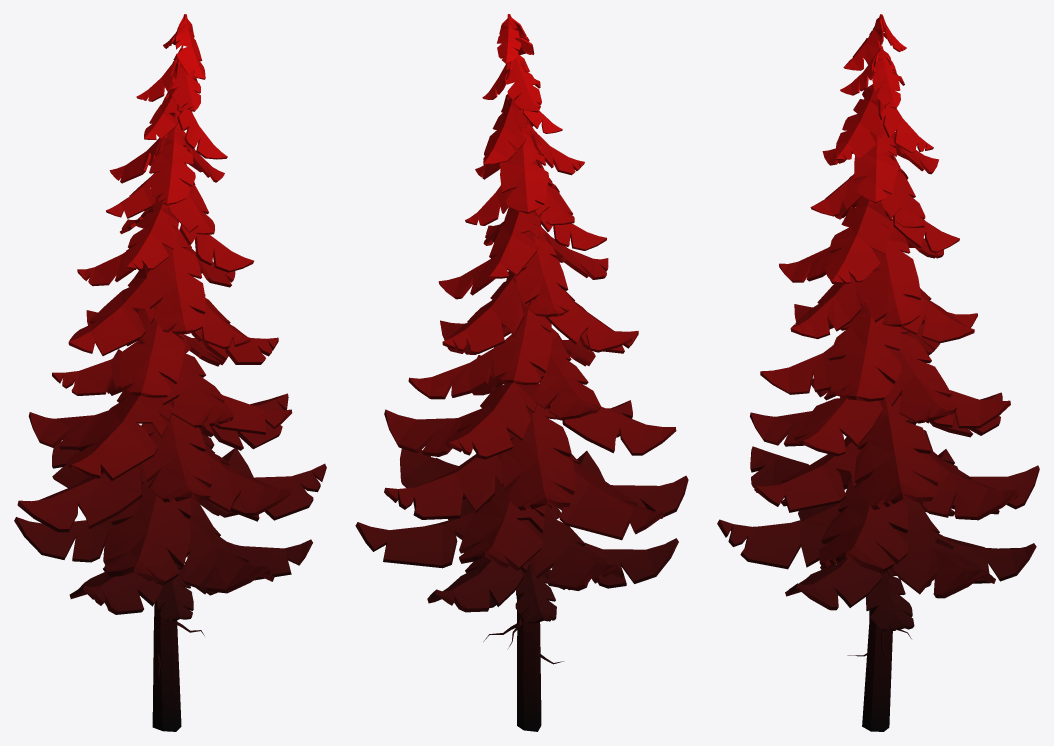
Rendered from TreeSpruce09.fbx.
3 views of the same model, side by side, from view 1: azimuth 30°, elevation 25°; view 2: azimuth 150°, elevation 25°; view 3: azimuth 270°, elevation 25° (orthographic). The views are drawn at different scales.
Parts seen in each view (by area): view 1: TreeSpruce09_LOD0; view 2: TreeSpruce09_LOD0; view 3: TreeSpruce09_LOD0.
Boxes of the visible parts, x1,y1,x2,y2 form: TreeSpruce09_LOD0: (14,14,326,731); TreeSpruce09_LOD0: (355,14,688,731); TreeSpruce09_LOD0: (717,14,1039,731).
Size of what is drawn, in the model's own units: 187 by 442 by 179.
